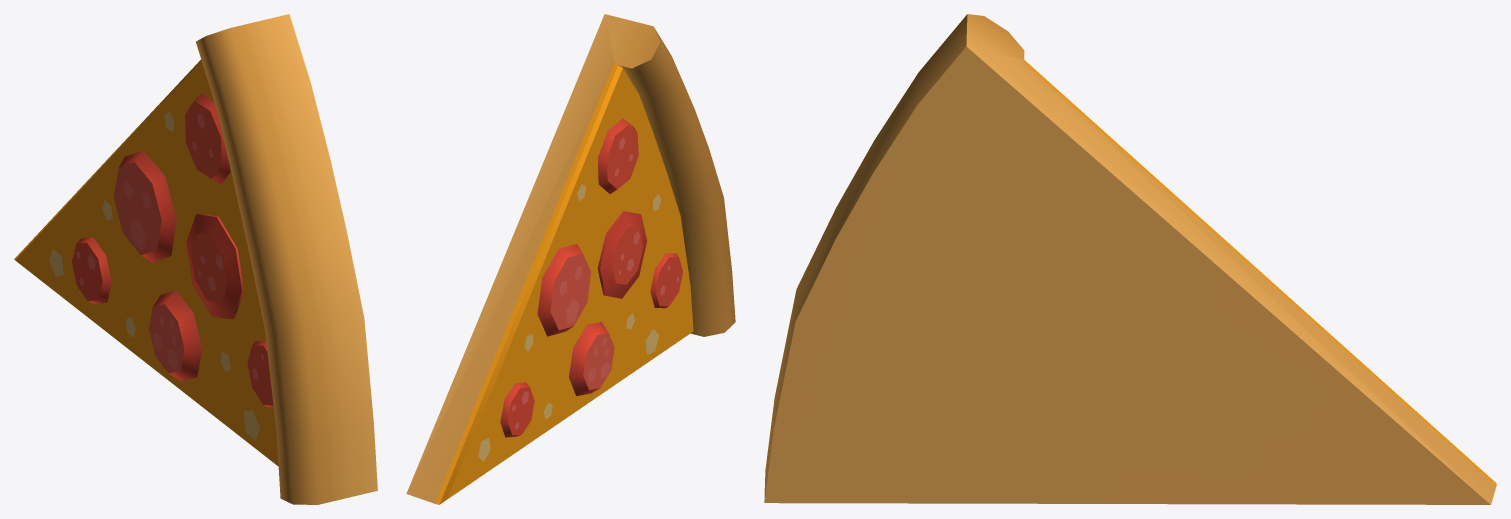
Rendered from PizzaSign_2_B.fbx.
3 renders of one model, left to right at view 1: azimuth 30°, elevation 25°; view 2: azimuth 150°, elevation 25°; view 3: azimuth 270°, elevation 25°, orthographic. The views are drawn at different scales.
Parts seen in each view (by area): view 1: PizzaSign_2_B; view 2: PizzaSign_2_B; view 3: PizzaSign_2_B.
Boxes of the visible parts, x1,y1,x2,y2 form: PizzaSign_2_B: (14,14,377,504); PizzaSign_2_B: (406,14,735,504); PizzaSign_2_B: (764,14,1496,504).
Size of the model in its own units: 50.67 by 248 by 352.
